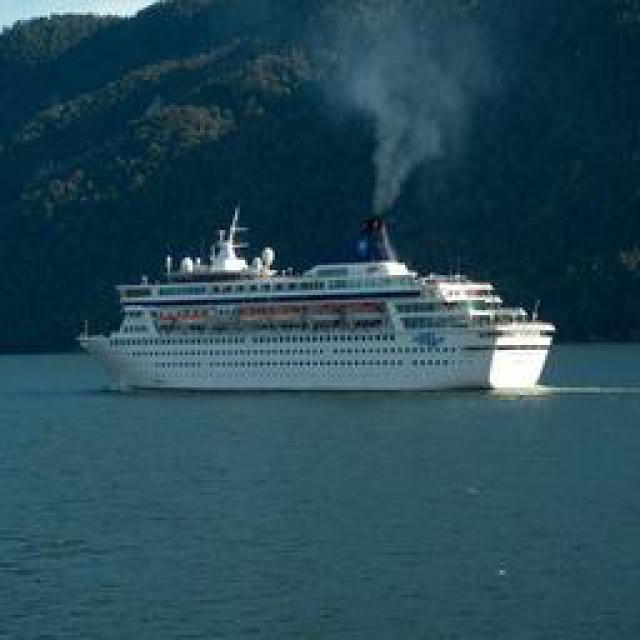Ship: (90, 215, 560, 395)
